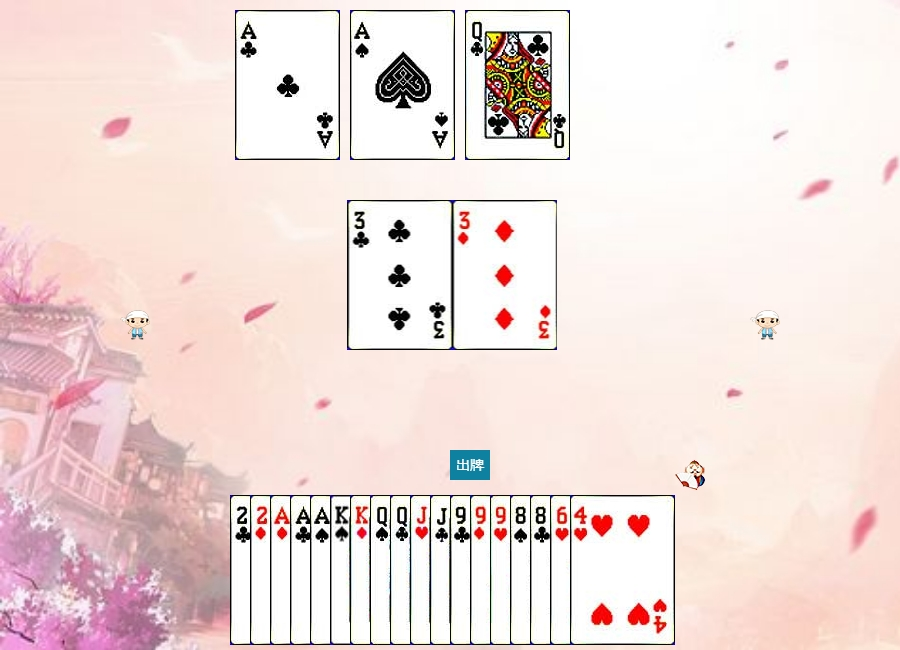11~2: (430, 495, 535, 645)
11~3: (410, 495, 515, 645)
12~2: (465, 10, 570, 160), (390, 495, 495, 645)
12~4: (370, 495, 475, 645)
13~1: (350, 495, 455, 645)
13~4: (330, 495, 435, 645)
14~1: (270, 495, 375, 645)
14~2: (235, 10, 340, 160), (290, 495, 395, 645)
14~4: (350, 10, 455, 160), (310, 495, 415, 645)
15~1: (250, 495, 355, 645)
15~2: (230, 495, 335, 645)
3~1: (453, 200, 558, 350)
3~2: (348, 200, 453, 350)
4~3: (570, 495, 675, 645)
6~3: (550, 495, 655, 645)
8~2: (530, 495, 635, 645)
8~4: (510, 495, 615, 645)
9~1: (470, 495, 575, 645)
9~2: (450, 495, 555, 645)
9~3: (490, 495, 595, 645)
